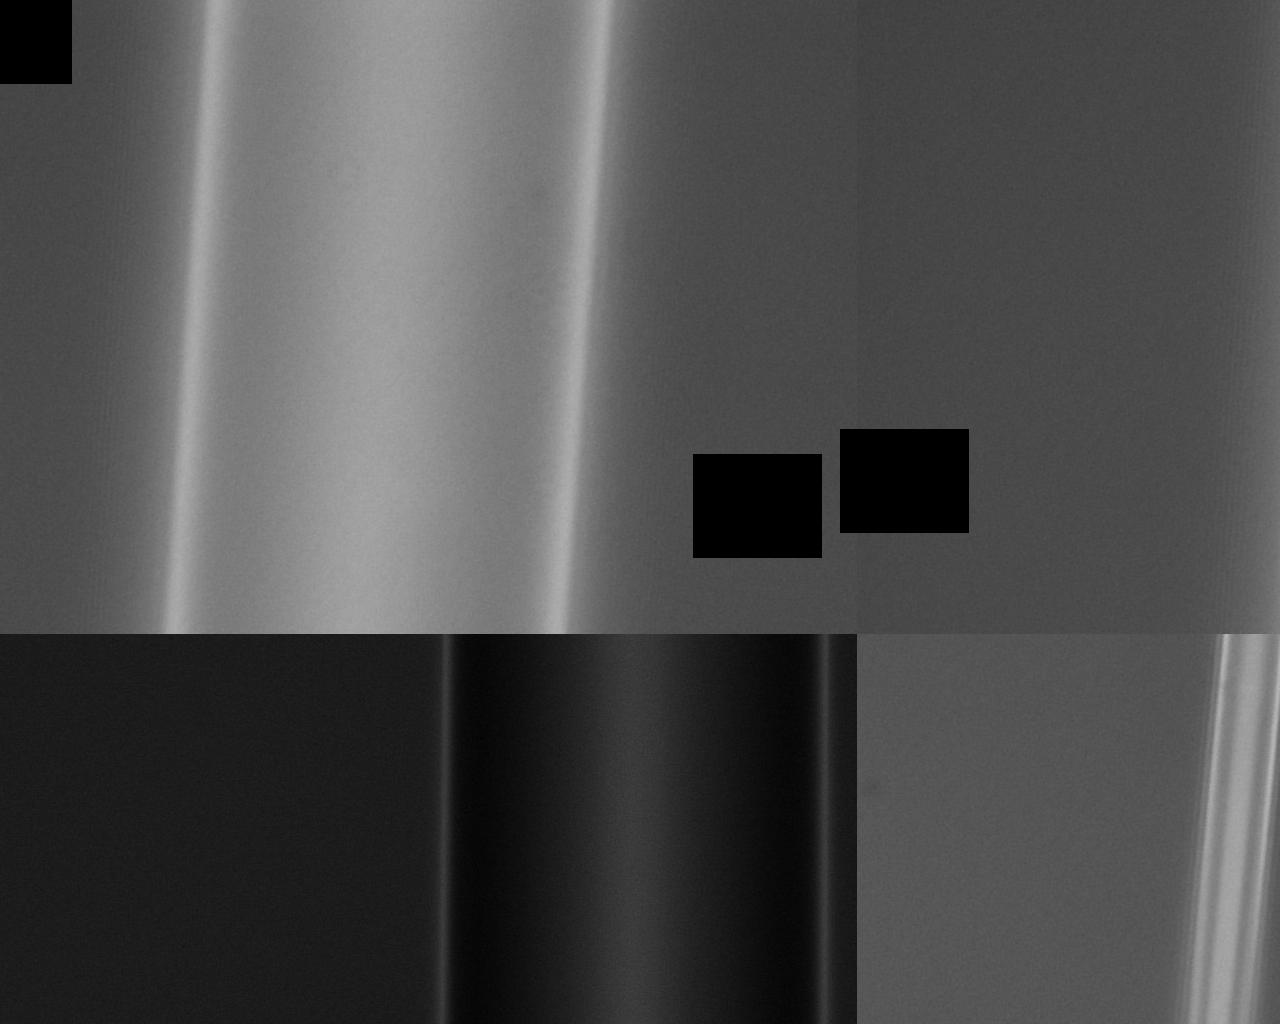fiber: (448, 493, 1280, 795), (448, 133, 1280, 327)
